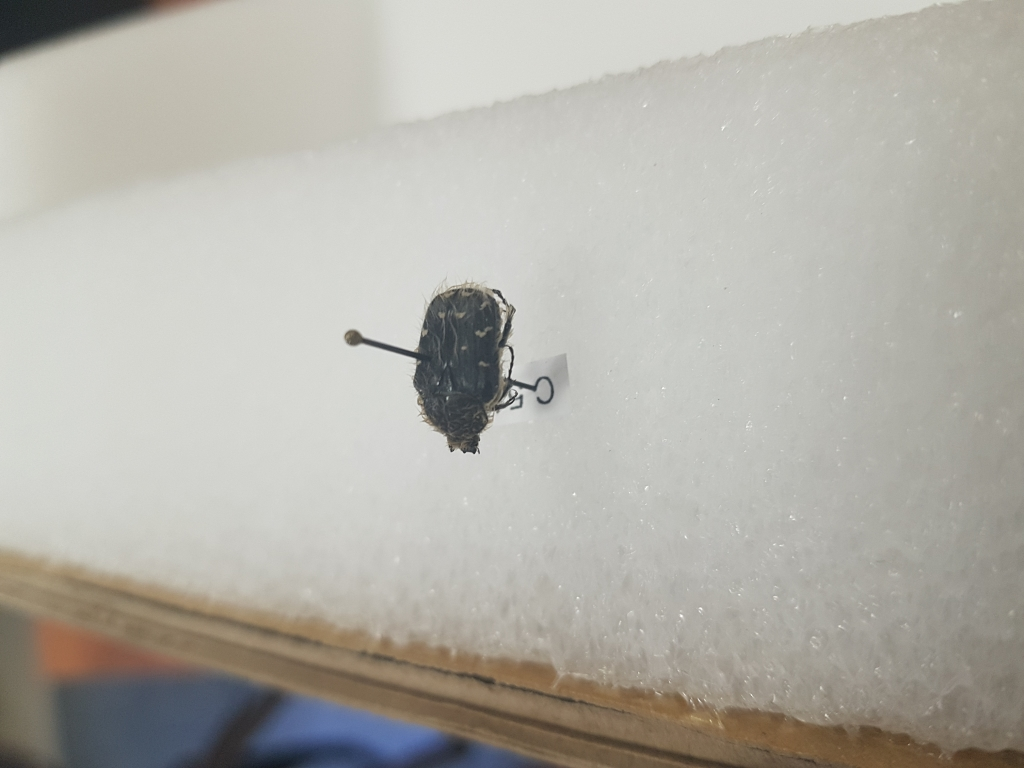Tropinota_senicula: (402, 280, 545, 457)
